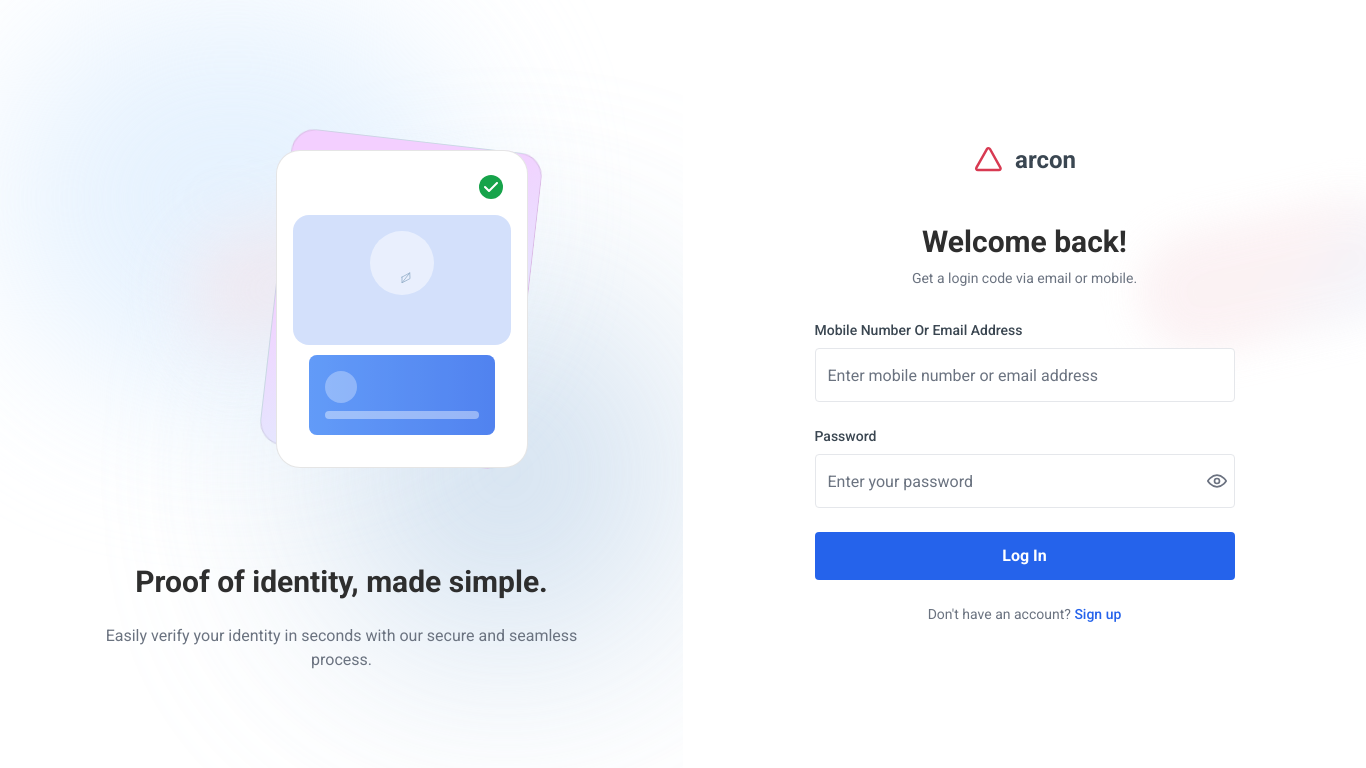
Scenario: Login page › shows validation errors for empty/invalid fields
empty submit
Click the button "Log In". click: (1024, 556)
box: left=814, top=532, right=1234, bottom=580
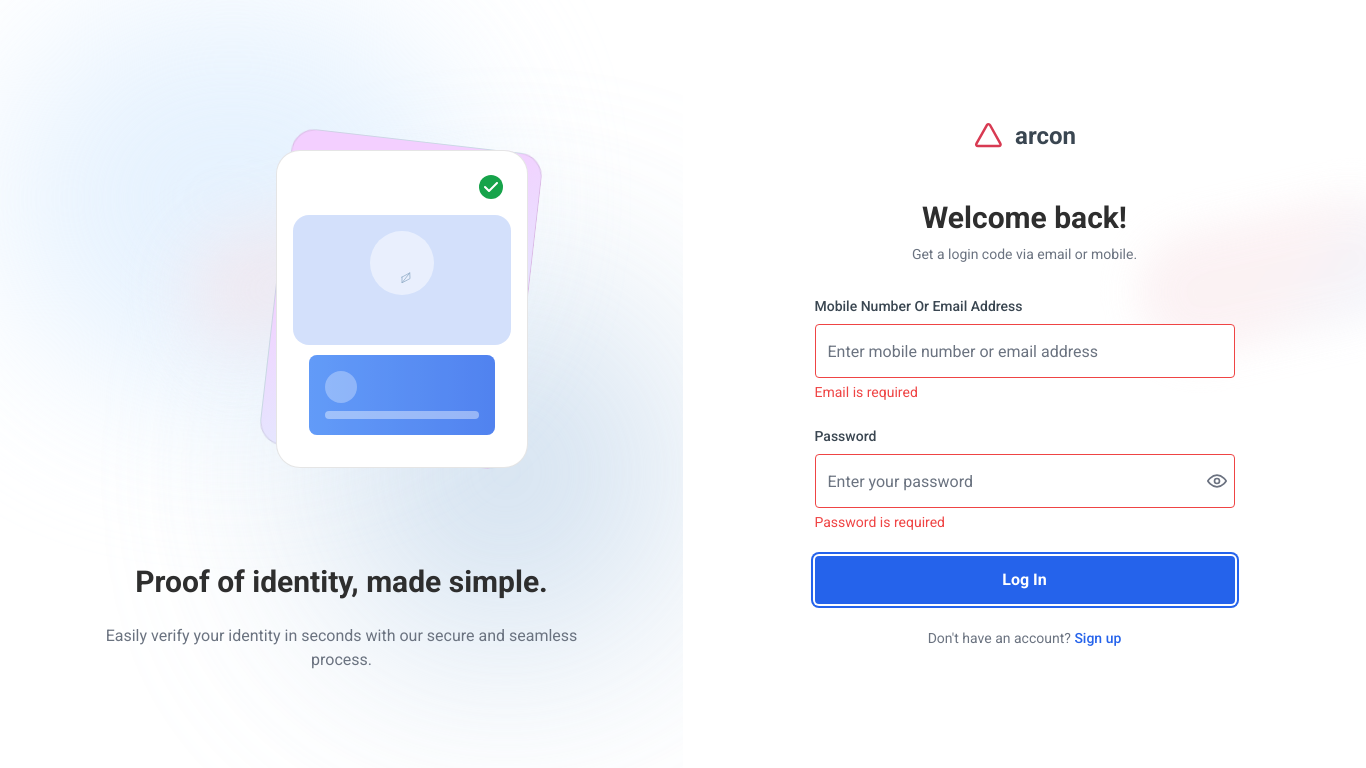
Expected: the text "Email is required" is shown, left=814, top=384, right=918, bottom=400
Expected: the text "Password is required" is shown, left=814, top=514, right=945, bottom=530
invalid values
Type "not-an-email" into the field with placeholder "Enter mobile number or email address". click: (1024, 351)
box: left=814, top=324, right=1234, bottom=378
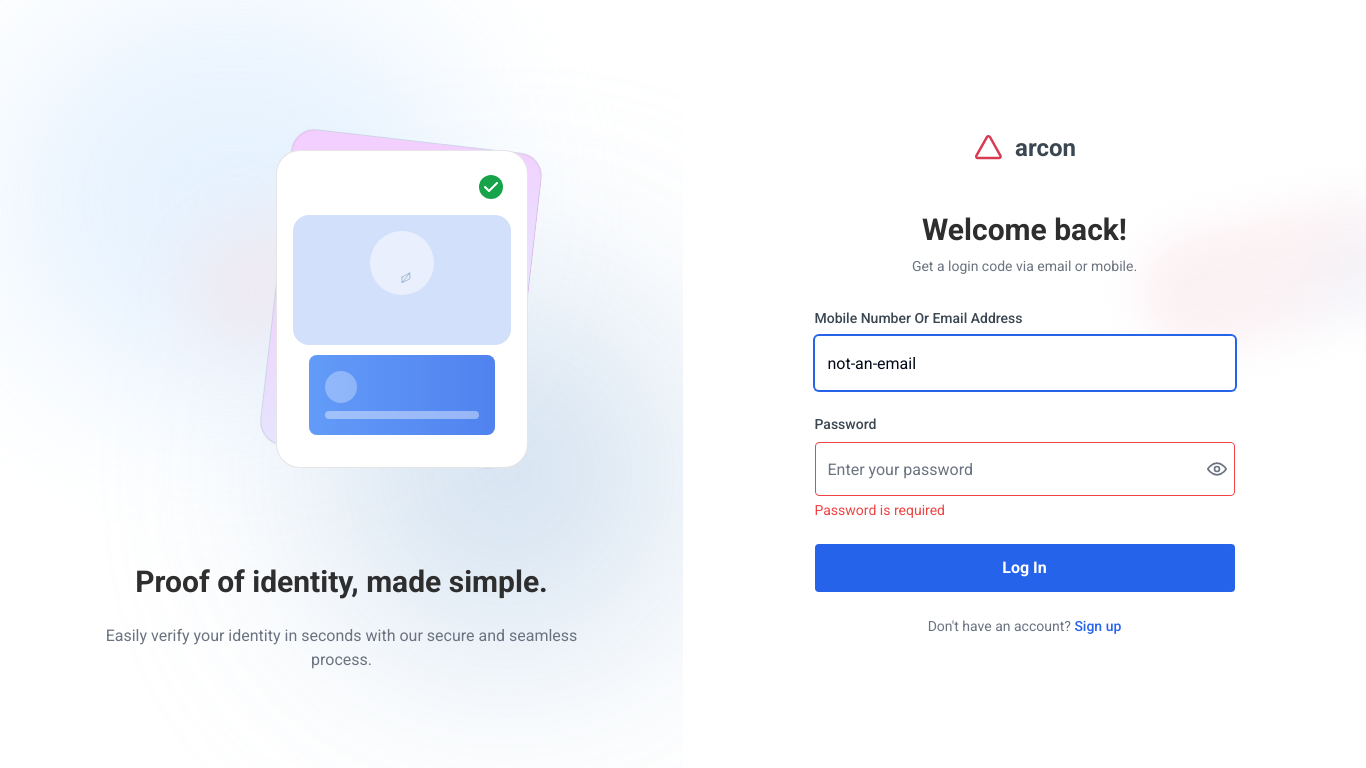
Type "123" into the password field with placeholder "Enter your password". click: (1024, 469)
box: left=814, top=442, right=1234, bottom=496
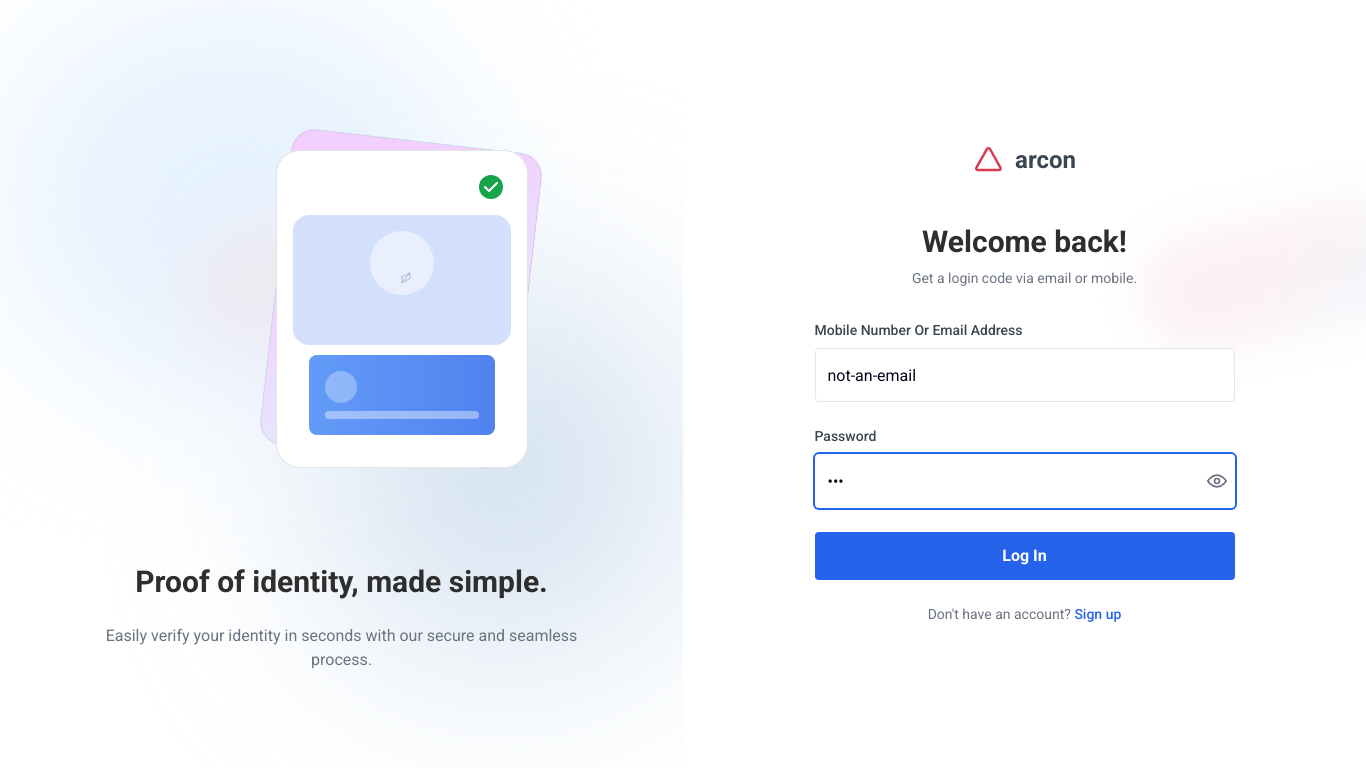
Click the button "Log In". click: (1024, 556)
box: left=814, top=532, right=1234, bottom=580
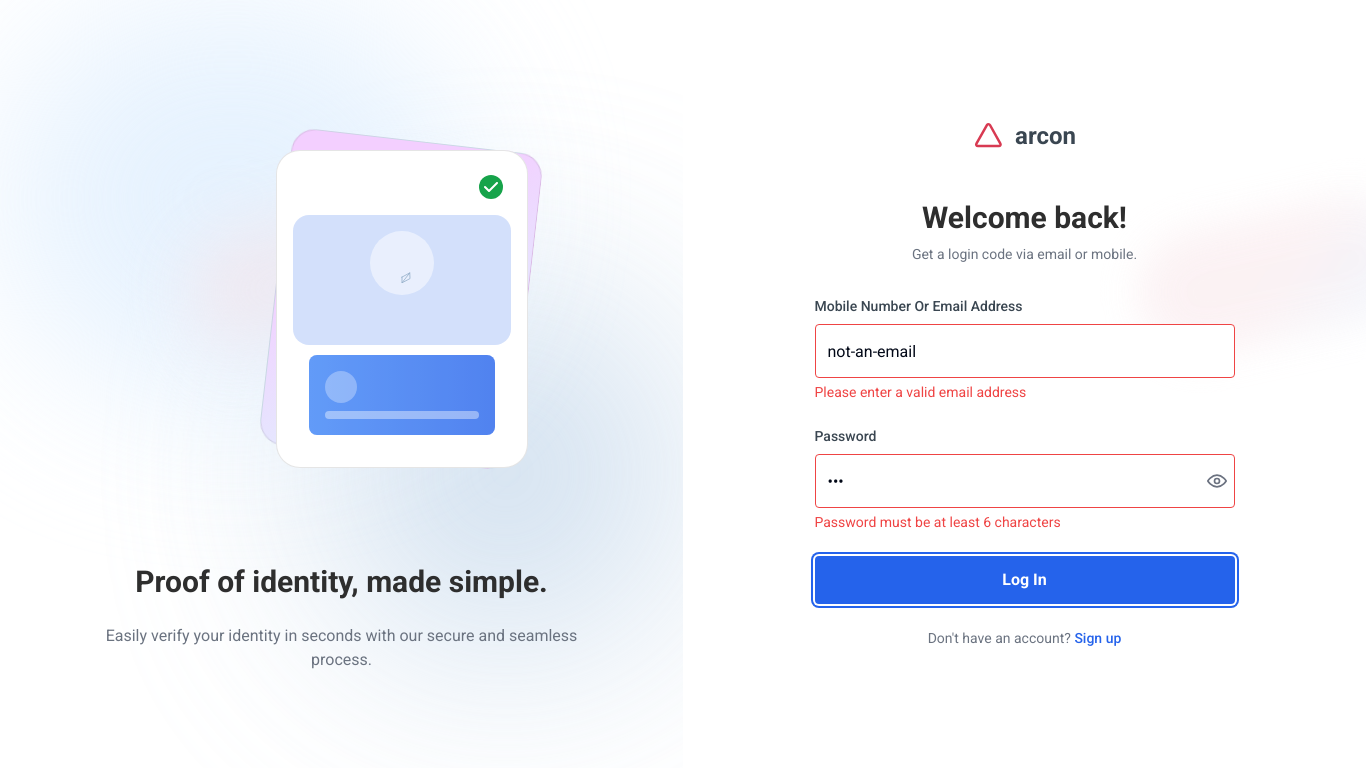
Expected: the text "Please enter a valid email address" is shown, left=814, top=384, right=1026, bottom=400
Expected: the text "Password must be at least 6 characters" is shown, left=814, top=514, right=1061, bottom=530
